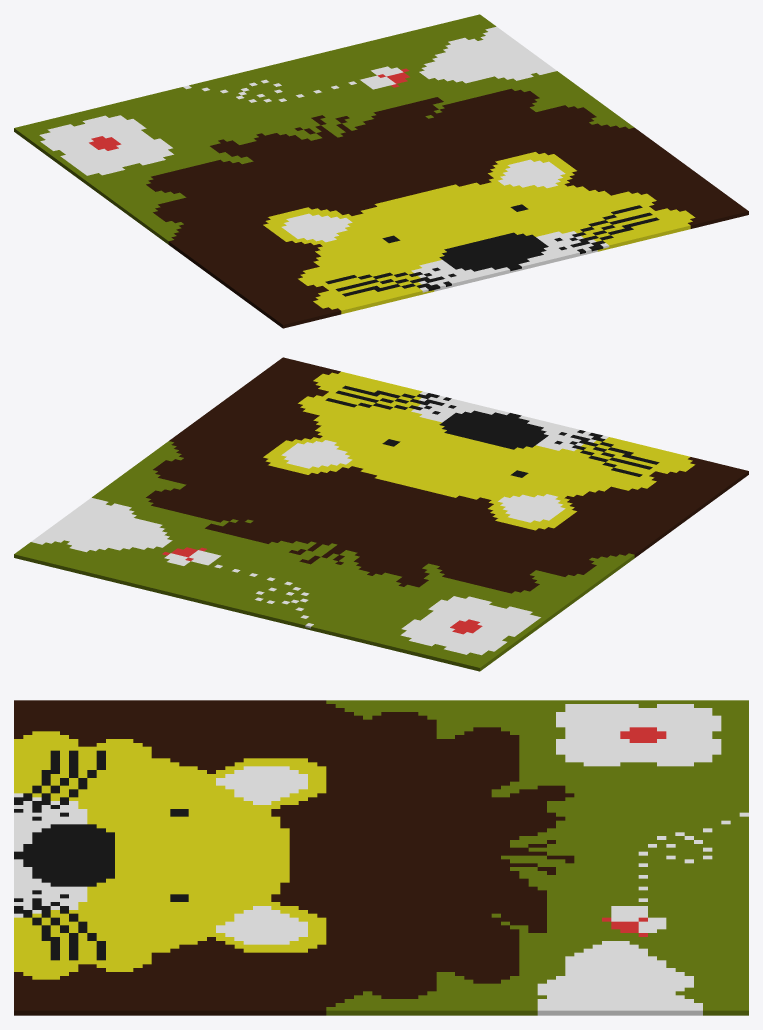
The model's file is LionCarpet.fbx.
3 renders of one model, top to bottom at view 1: azimuth 30°, elevation 25°; view 2: azimuth 150°, elevation 25°; view 3: azimuth 270°, elevation 25°, orthographic. The views are drawn at different scales.
Visible parts, largest first — view 1: LionCarpet; view 2: LionCarpet; view 3: LionCarpet.
Part boxes in pixels (box(x1,y1,x2,y2)): LionCarpet: box(14, 14, 748, 328); LionCarpet: box(14, 357, 748, 671); LionCarpet: box(14, 700, 748, 1015).
Bounding box in the file's own units: 800 × 6 × 800.
